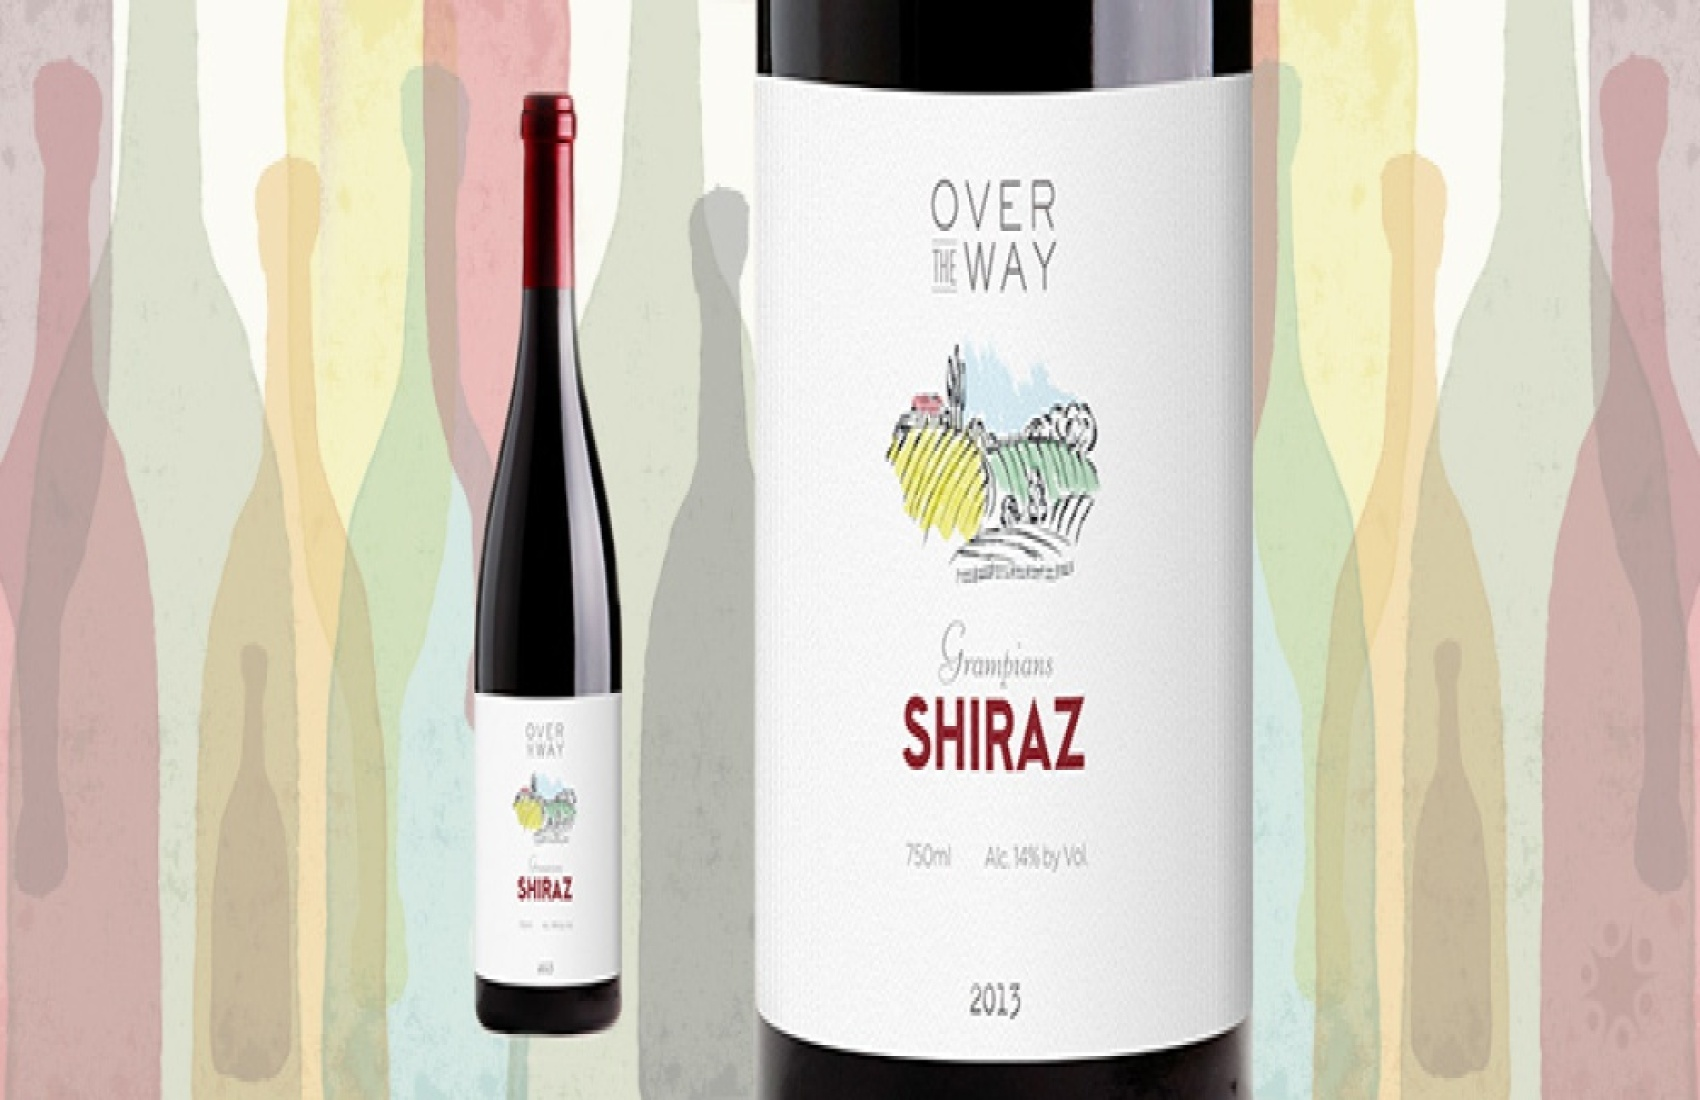wine: (743, 14, 1263, 1100), (458, 95, 631, 1031)
